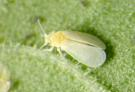whitefly: (36, 19, 107, 73)
